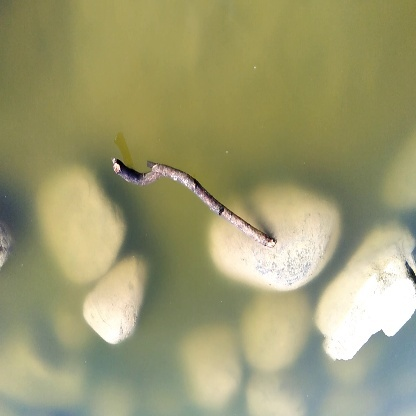branch: (108, 144, 282, 261)
